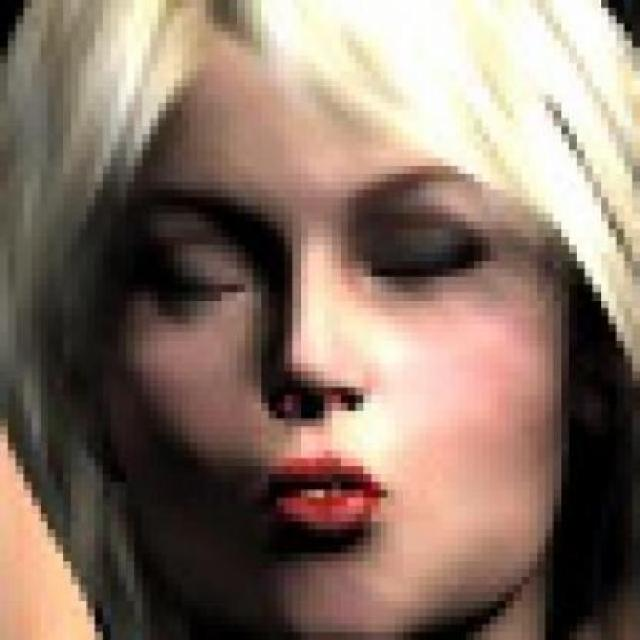drowsy: (367, 232, 488, 296), (158, 258, 240, 313)
